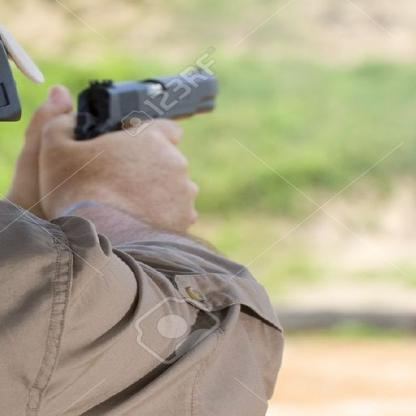gun: (49, 58, 237, 183)
